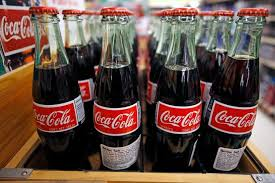coke-glass: (210, 6, 267, 169), (151, 4, 207, 169), (94, 6, 140, 170), (33, 2, 76, 167)
